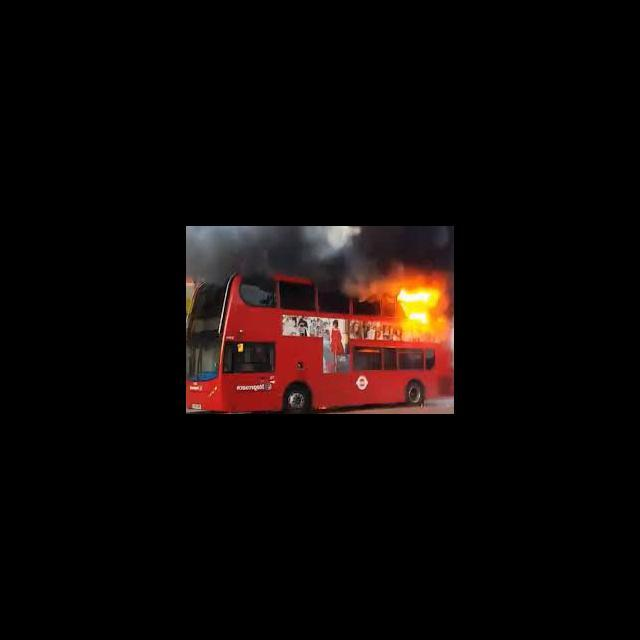Fire: (396, 286, 448, 328)
Smoke: (186, 228, 453, 272)
